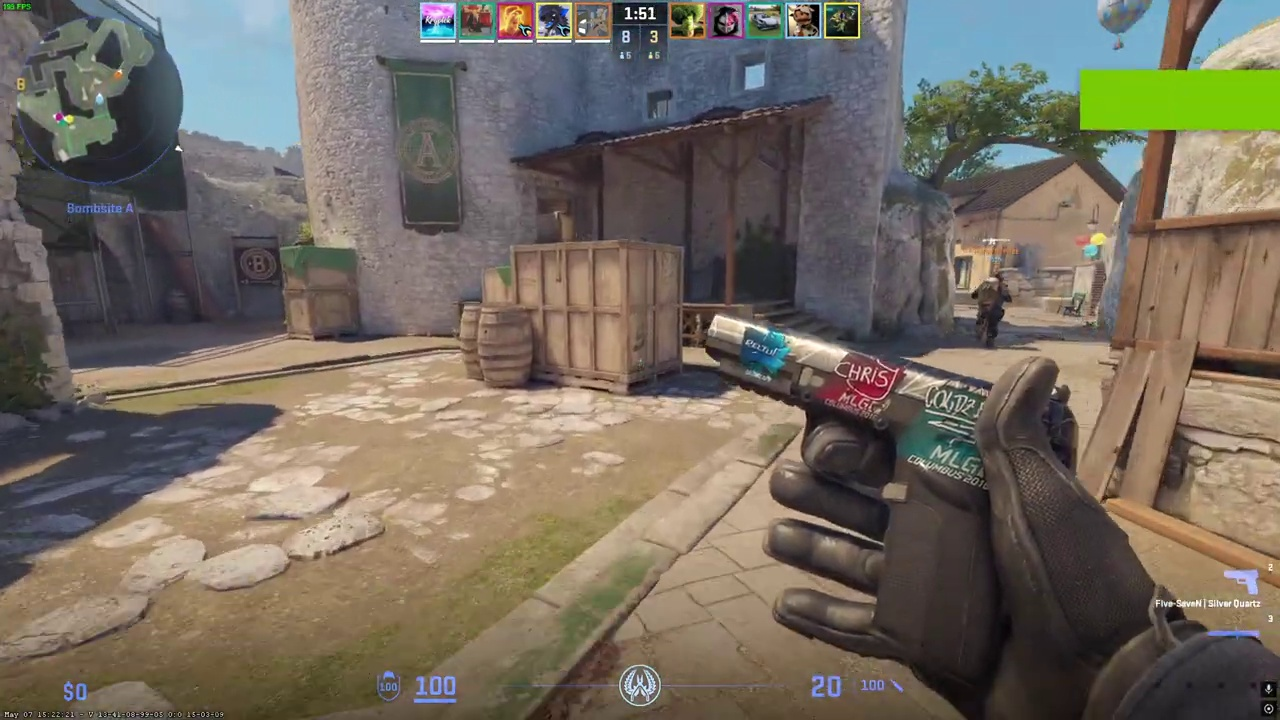CT: (972, 270, 1008, 348)
